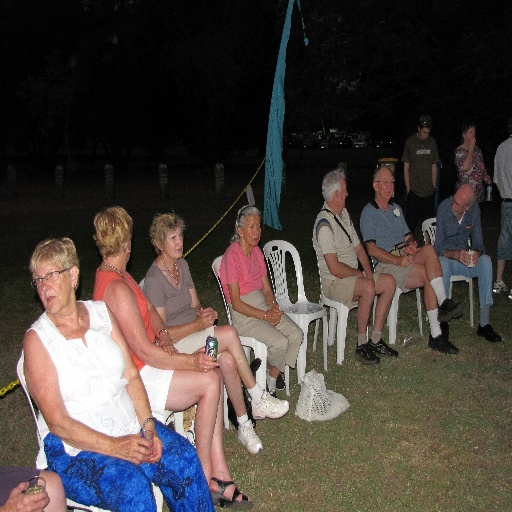hand: (101, 429, 158, 477), (6, 479, 51, 511), (192, 345, 220, 373), (145, 428, 163, 464), (157, 335, 180, 358), (401, 240, 422, 258), (196, 314, 215, 331), (198, 305, 217, 321), (457, 249, 471, 269), (268, 309, 284, 324), (396, 254, 412, 269), (270, 303, 280, 326), (466, 136, 477, 150), (471, 249, 479, 267), (483, 175, 489, 182)
